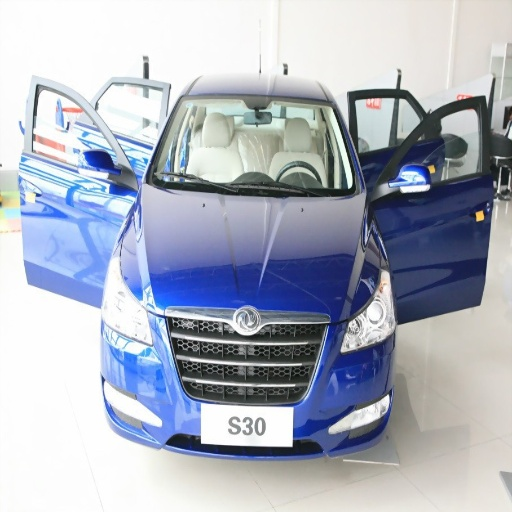front_bumper: (101, 313, 392, 454)
front_left_light: (339, 271, 394, 355)
front_right_light: (103, 249, 151, 345)
